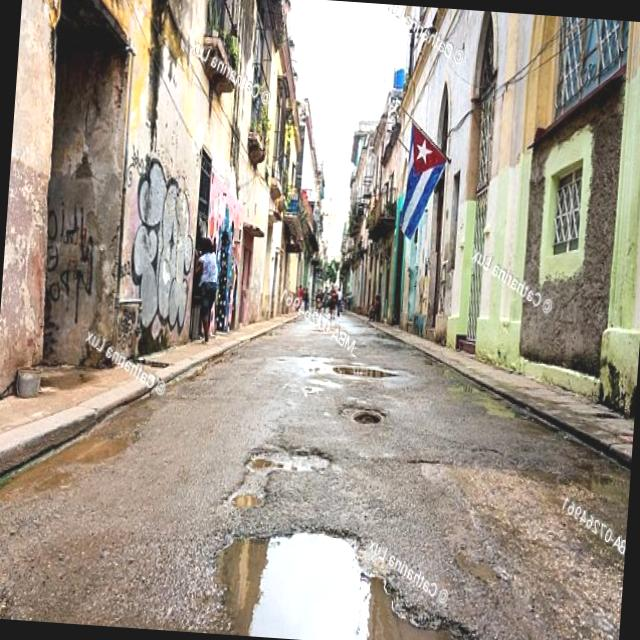bad-road: (208, 519, 498, 640), (223, 438, 333, 518), (350, 402, 388, 426)
